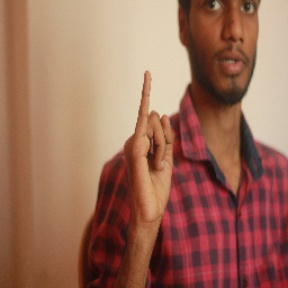I: (122, 67, 183, 210)
